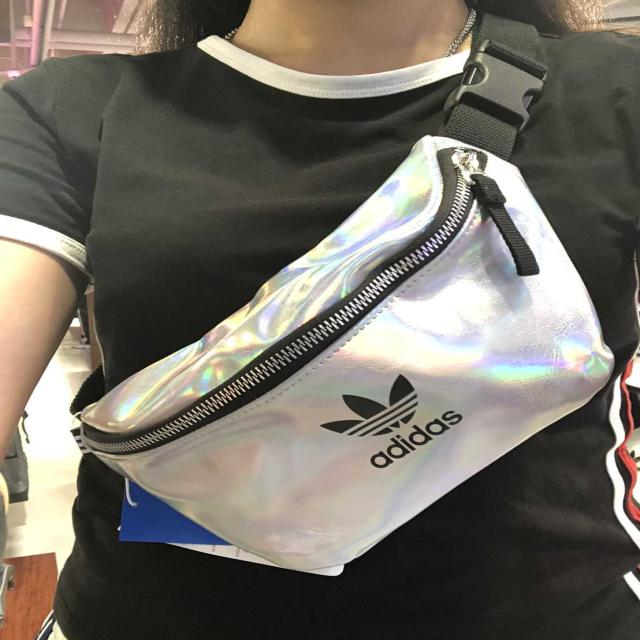handbag: (77, 146, 619, 577)
